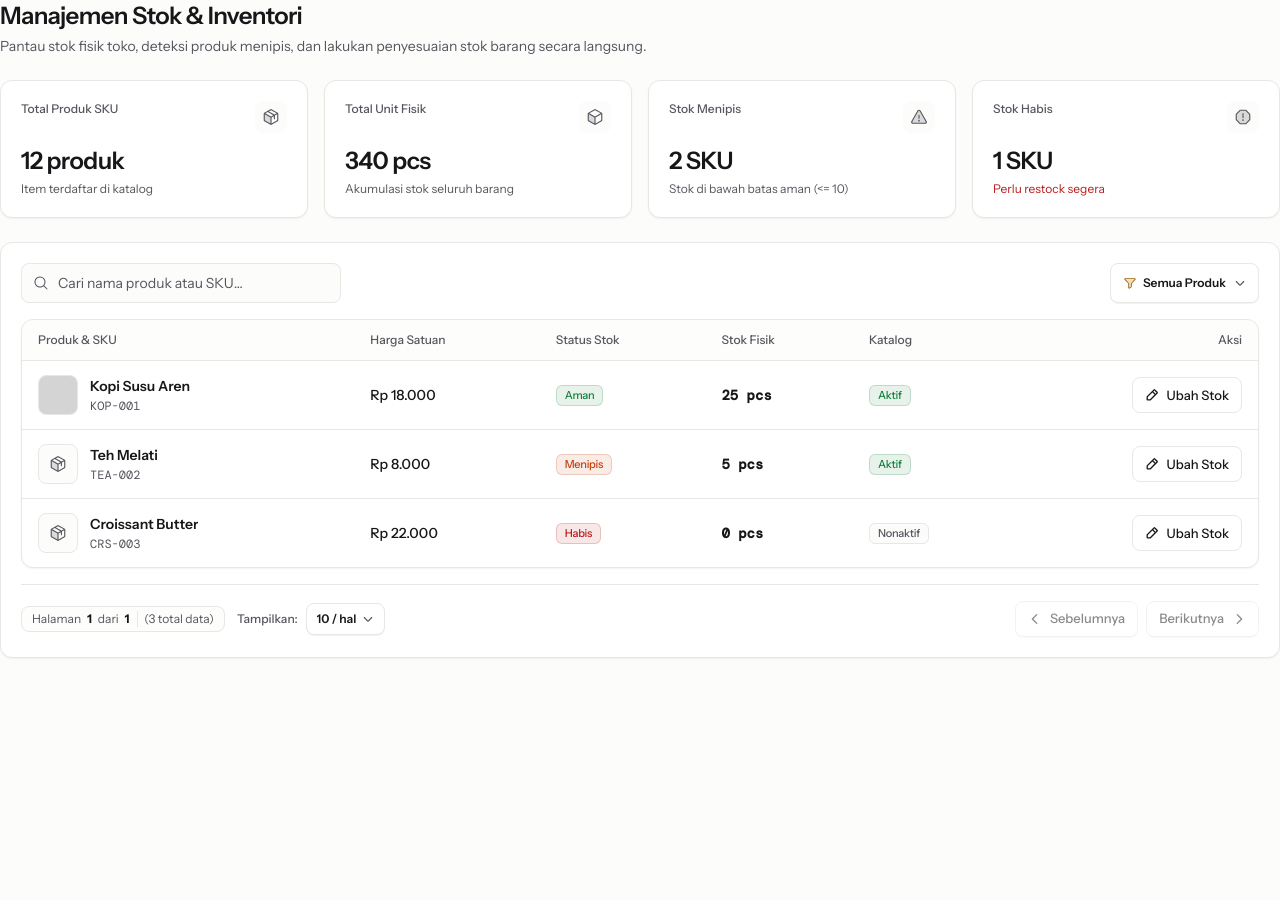
Scenario: InventoryView › opens adjust stock modal and saves valid new stock value
Click the button "Ubah Stok" in the row of "Kopi Susu Aren": x=1187, y=395 x1=1132 y1=377 x2=1242 y2=413
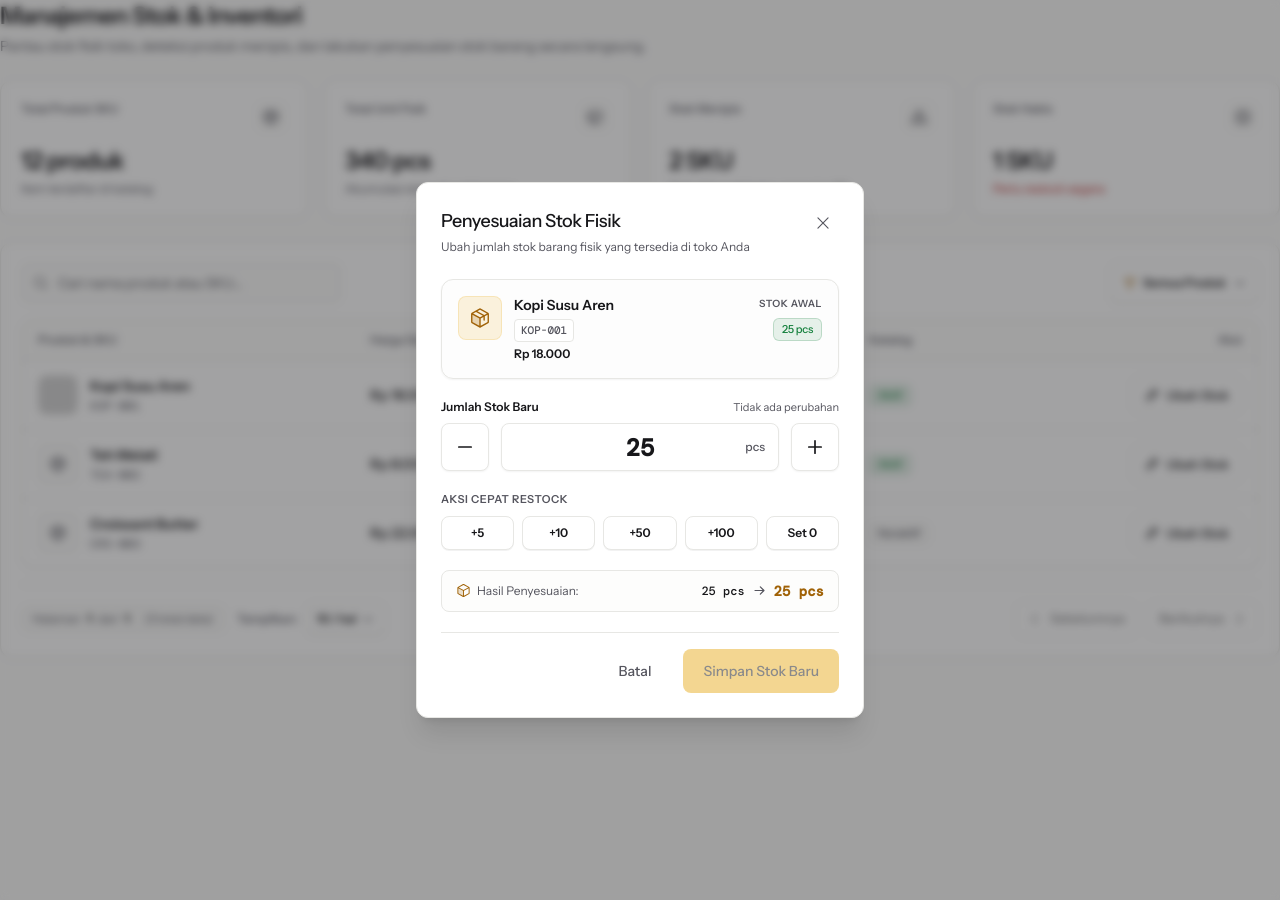
Expected: the heading "Penyesuaian Stok Fisik" is shown, x1=441 y1=210 x2=621 y2=232
Expected: the field showing "25" is shown, x1=501 y1=423 x2=779 y2=471
Note: Click '+5' quick delta button
Click the button "+5": x=478, y=533 x1=441 y1=516 x2=514 y2=550
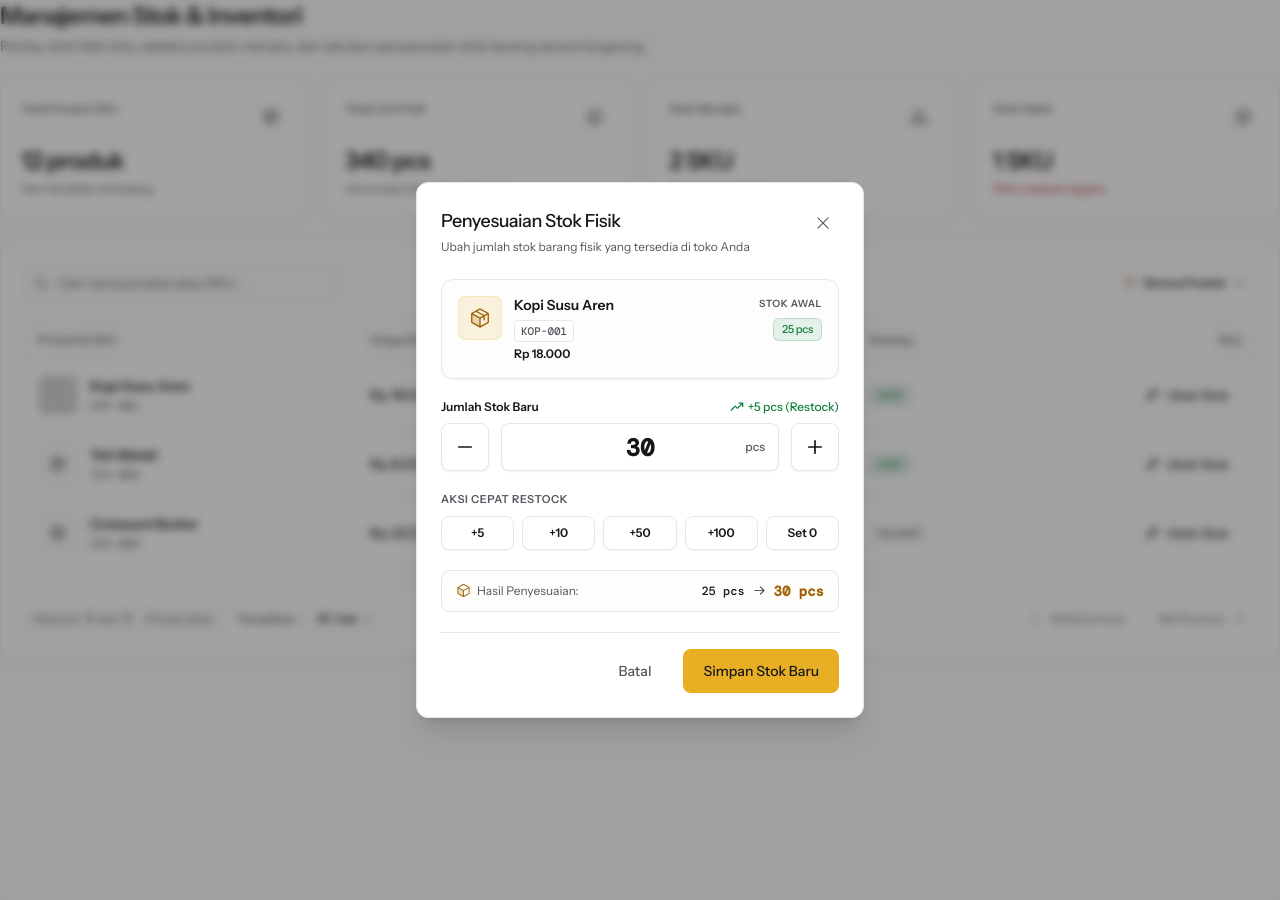
Expected: the field showing "30" is shown, x1=501 y1=423 x2=779 y2=471
Note: Click 'Simpan Stok Baru' submit button
Click the button "Simpan Stok Baru": x=761, y=671 x1=683 y1=649 x2=839 y2=693
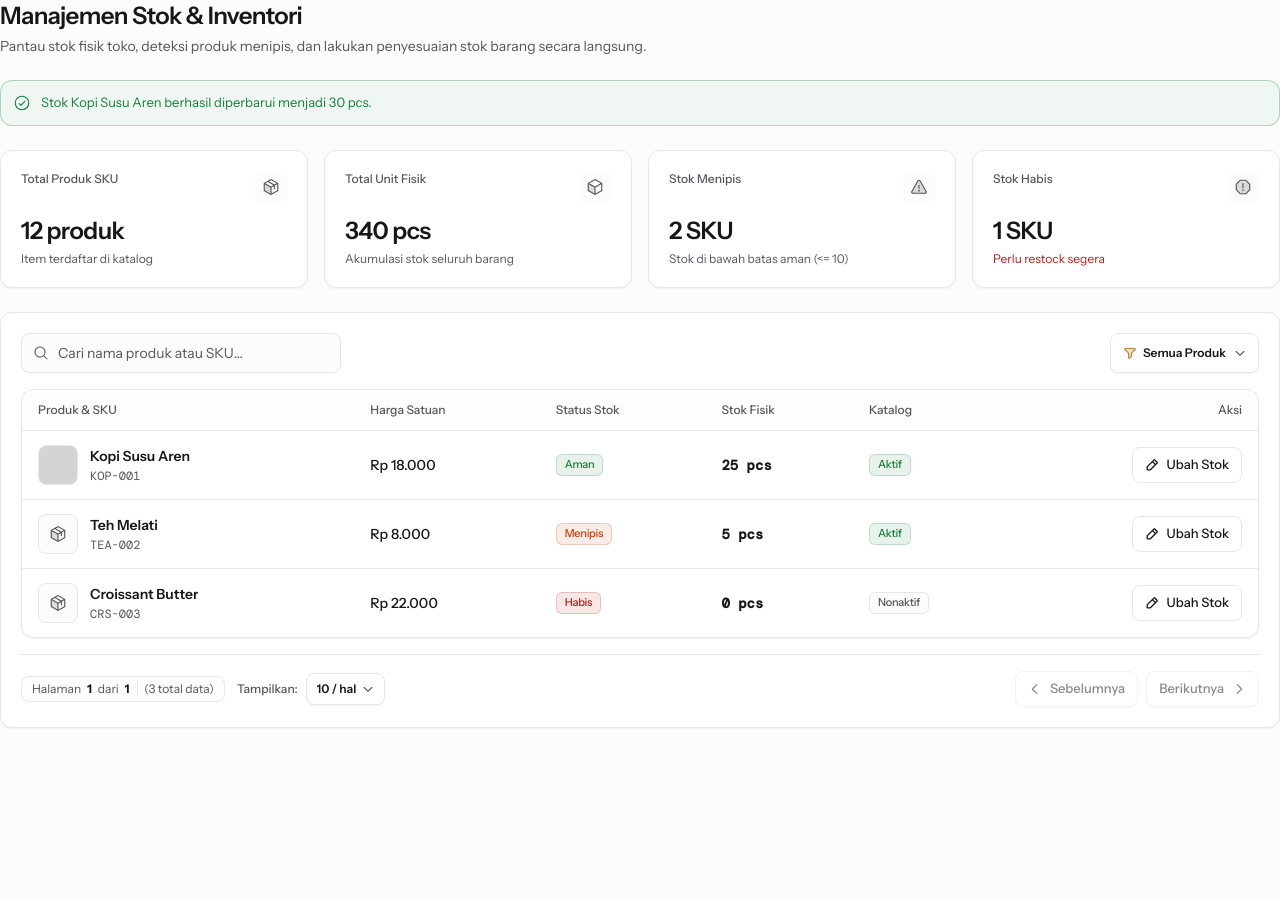
Expected: the text "Stok Kopi Susu Aren berhasil diperbarui menjadi 30 pcs." is shown, x1=41 y1=93 x2=372 y2=112
